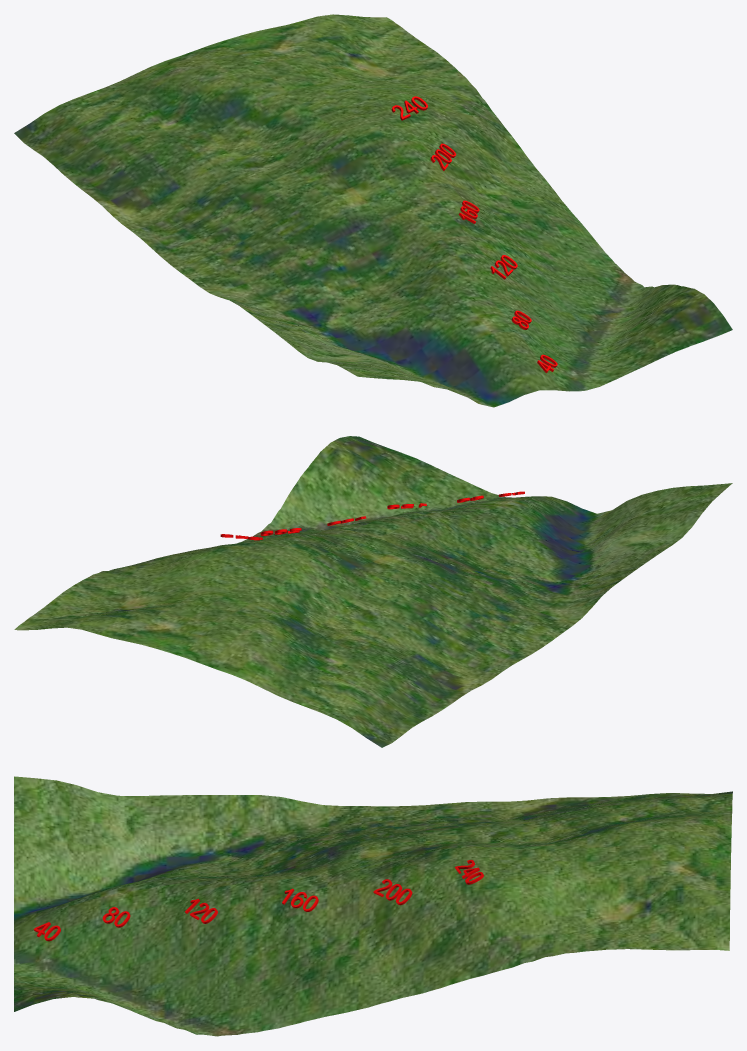
File: SaoJoseAusentes1a.gltf
3 renders of one model, top to bottom at view 1: azimuth 30°, elevation 25°; view 2: azimuth 150°, elevation 25°; view 3: azimuth 270°, elevation 25°, orthographic. The views are drawn at different scales.
Parts seen in each view (by area): view 1: root; view 2: root; view 3: root.
Part boxes in pixels (x1,y1,x2,y2): root: (14, 14, 732, 407); root: (14, 436, 732, 747); root: (14, 776, 732, 1036).
Bounding box in the file's own units: 919 × 271 × 1476.
3 materials, 1 textured.
